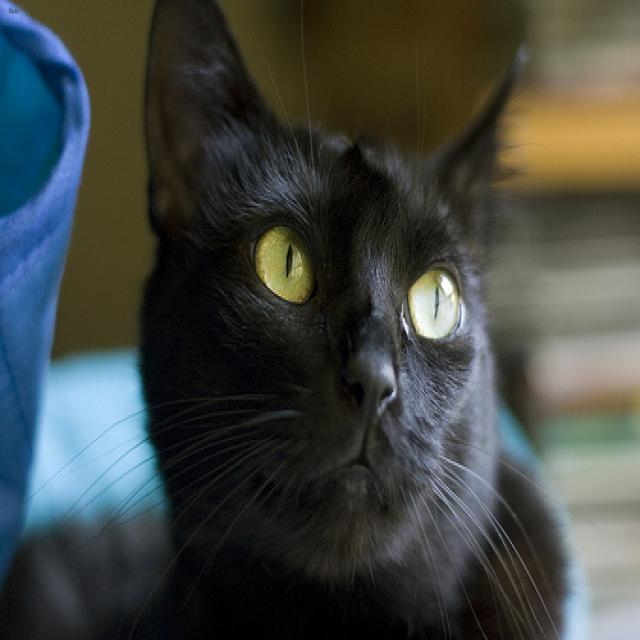Bombay: (140, 0, 524, 567)
